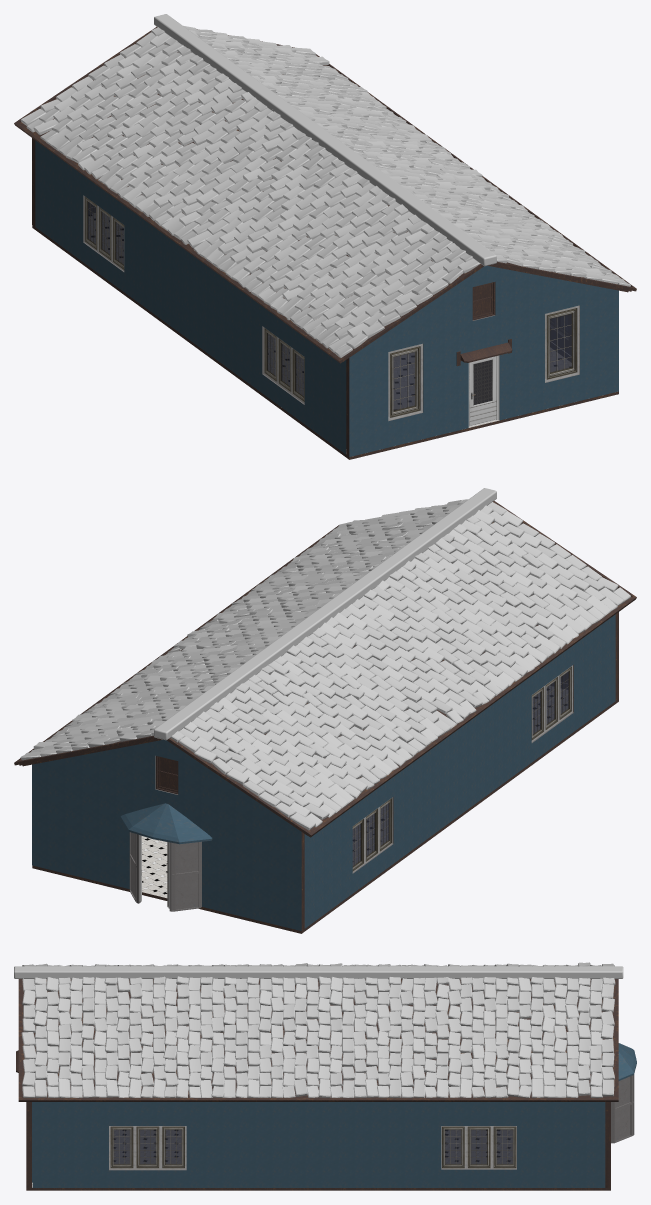
3 renders of one model, top to bottom at view 1: azimuth 30°, elevation 25°; view 2: azimuth 150°, elevation 25°; view 3: azimuth 270°, elevation 25°, orthographic. The views are drawn at different scales.
Visible parts, largest first — view 1: house, 01_2_Mat.5_0, 01_1_Mat.5_0, 02_1_Mat.5_0, 02_1_1_Mat.5_0, DOOR_METAL__0_2; view 2: house, 02_1_Mat.5_0, 02_1_1_Mat.5_0; view 3: house, 02_Mat.5_0, 02_1_2_Mat.5_0.
Part boxes in pixels (x1,y1,x2,y2): house: [14, 14, 636, 459]; 01_2_Mat.5_0: [545, 305, 579, 382]; 01_1_Mat.5_0: [388, 343, 422, 420]; 02_1_Mat.5_0: [263, 327, 304, 403]; 02_1_1_Mat.5_0: [84, 196, 124, 270]; DOOR_METAL__0_2: [469, 356, 496, 426]; house: [14, 488, 636, 933]; 02_1_Mat.5_0: [531, 665, 572, 741]; 02_1_1_Mat.5_0: [352, 797, 392, 872]; house: [14, 962, 636, 1190]; 02_Mat.5_0: [109, 1126, 186, 1169]; 02_1_2_Mat.5_0: [441, 1126, 516, 1169].
Size of the model in its own units: 11.04 by 6.21 by 21.74.
